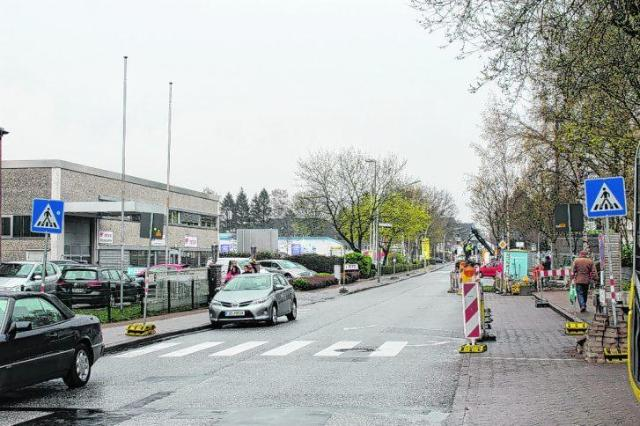crosswalk-sign: (585, 177, 628, 220), (31, 199, 65, 235)
